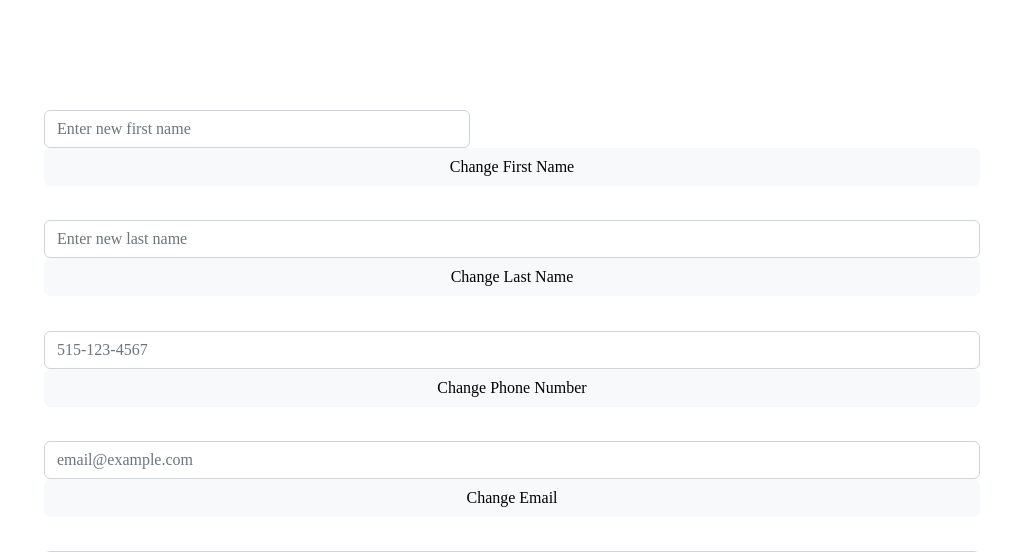
it: EditUserInfoPage › EditUserInfoPage: Invalid first name input
# input text into firstNameInput
Type "invalid1" into the field with placeholder "Enter new first name" at (257, 129), box [44,110,470,148]
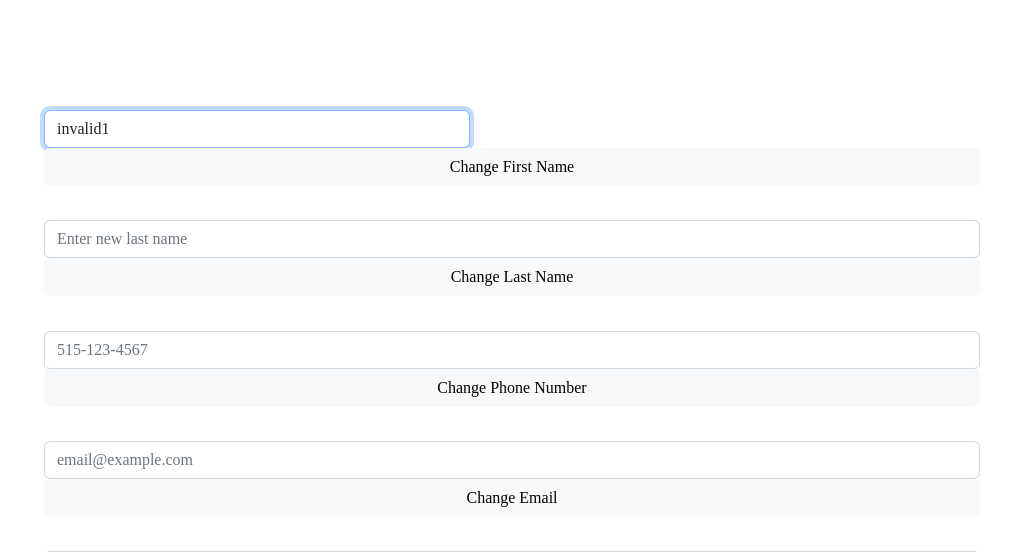
# after the Change First Name button is clicked, the error message should be visible
Click the button "Change First Name" at (512, 167), box [44,148,980,186]
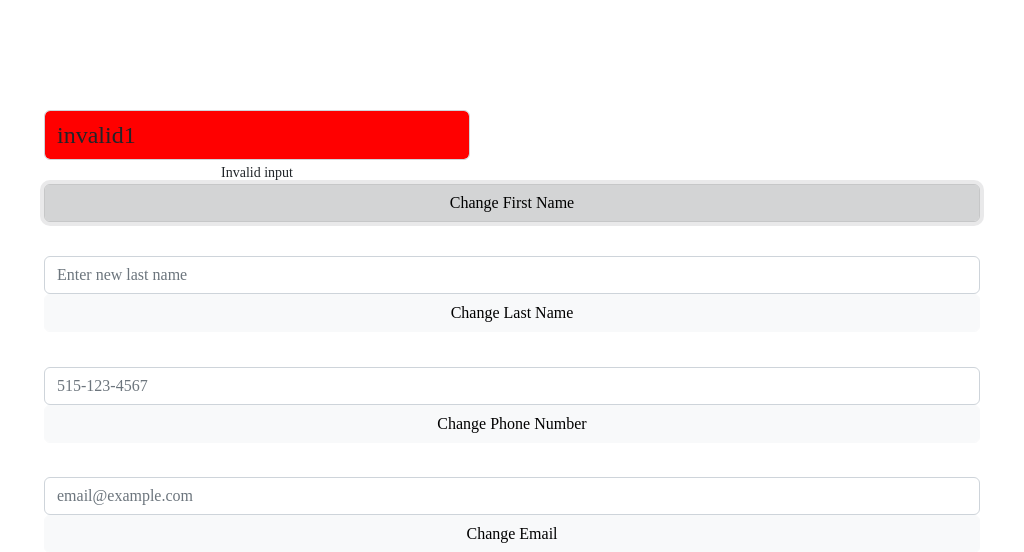
Check: the text "Invalid input" is shown, box [221,165,293,180]
